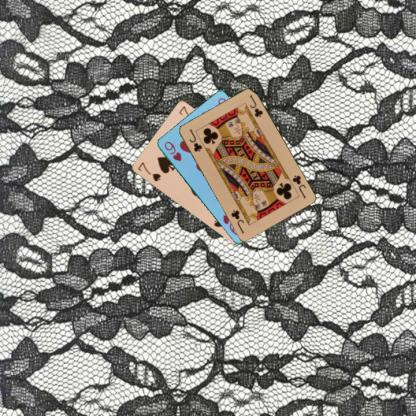7s: (134, 160, 162, 183)
9h: (161, 139, 183, 162)
Jc: (289, 172, 307, 200), (186, 127, 204, 153)
